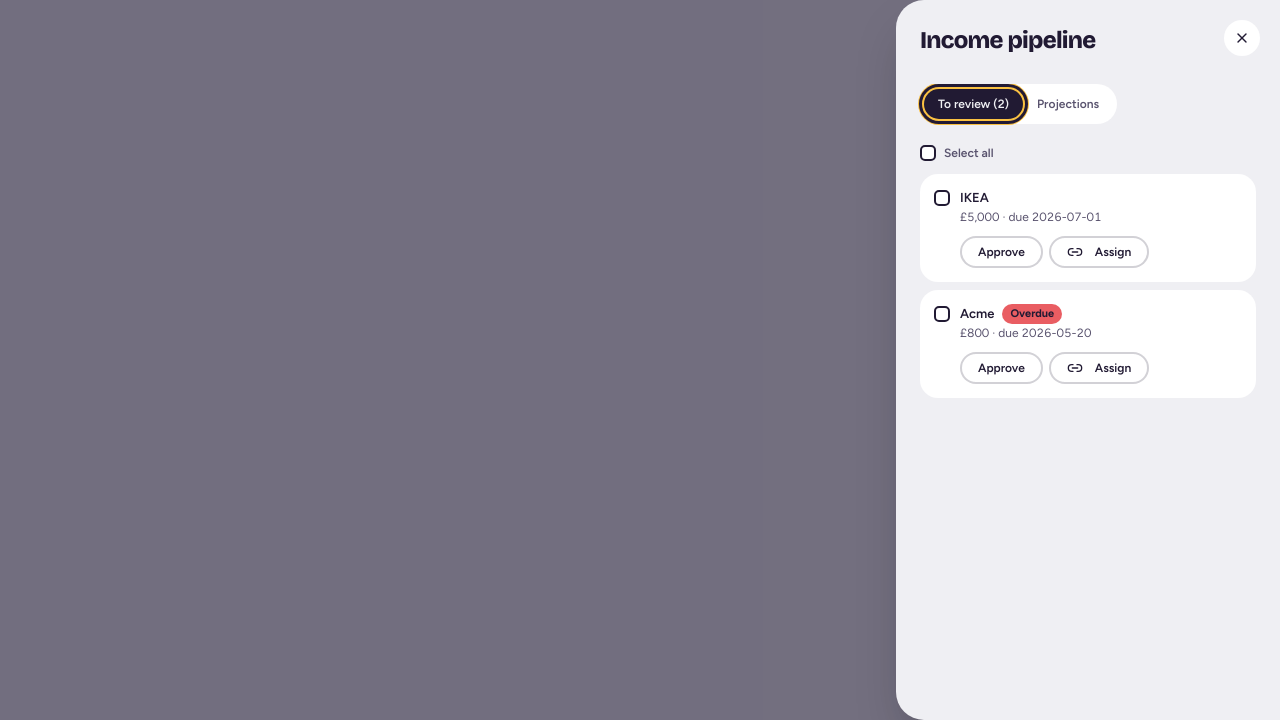
it: projections manager › shows the over-assigned tag when consumed exceeds the amount (D8)
Press the mouse on the tab "Projections": coordinates (1068, 104) left=1023, top=89, right=1113, bottom=119
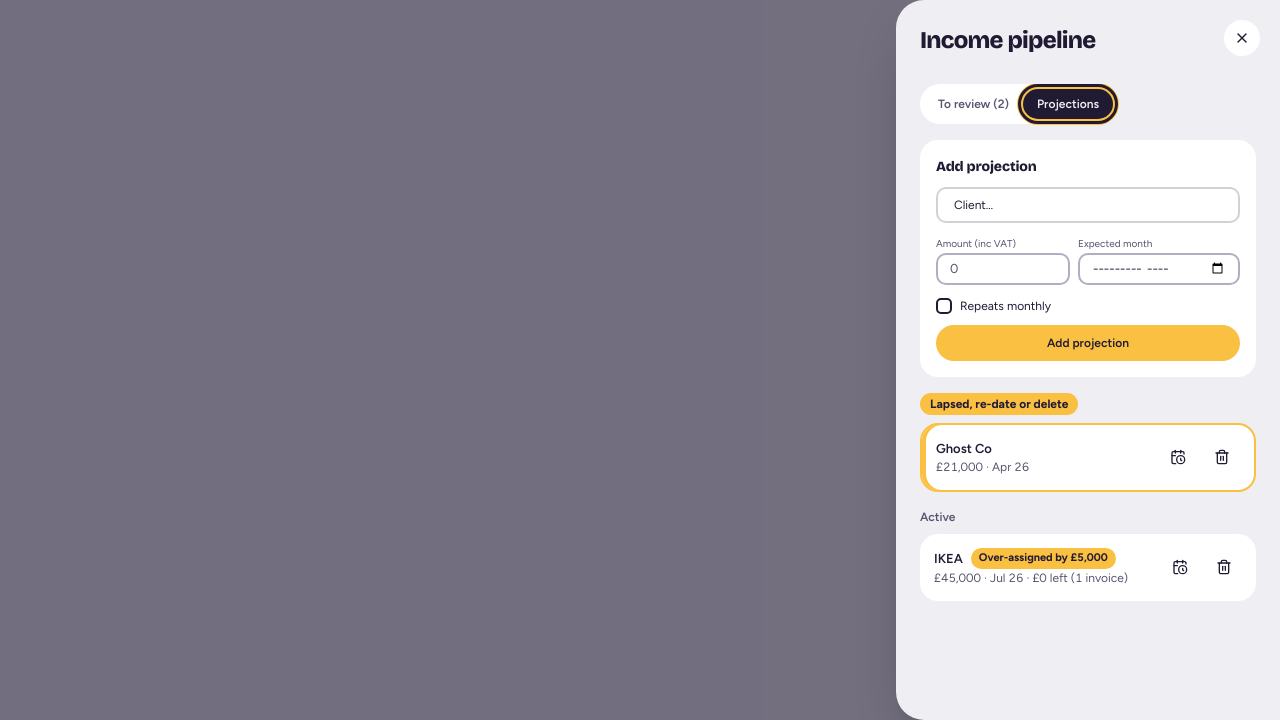
Expected: the text "Over-assigned by £5,000" is shown, left=971, top=548, right=1116, bottom=568
